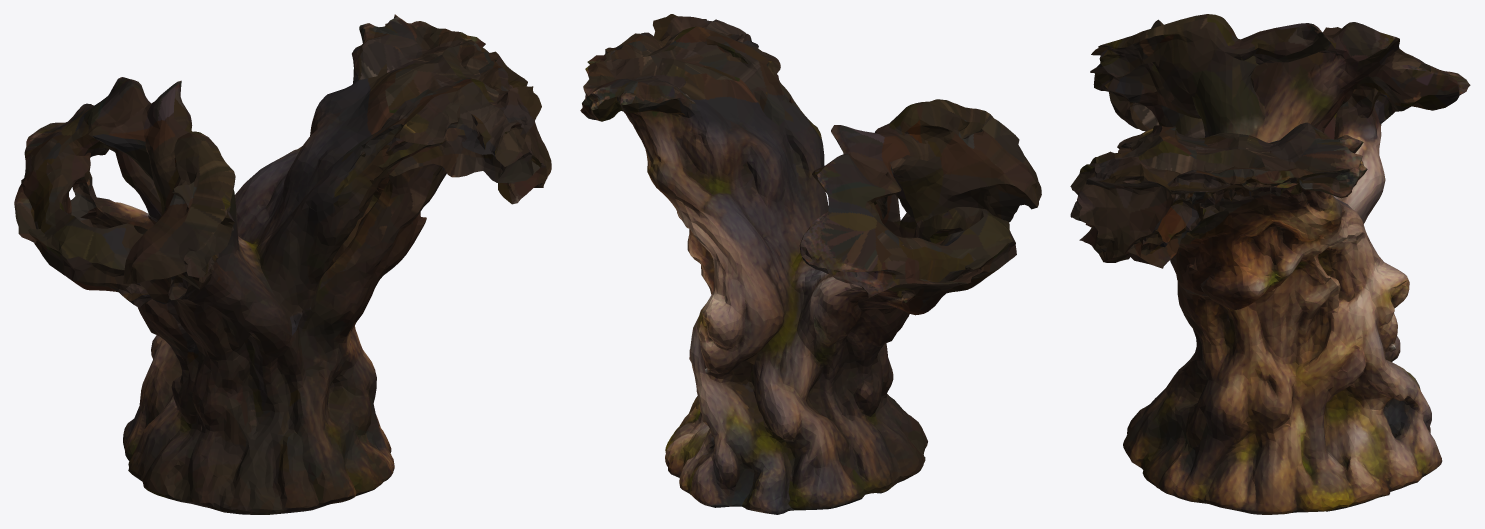
The model's file is veg_olive__v3b_fixed.glb.
3 renders of one model, left to right at view 1: azimuth 30°, elevation 25°; view 2: azimuth 150°, elevation 25°; view 3: azimuth 270°, elevation 25°, orthographic. The views are drawn at different scales.
Parts seen in each view (by area): view 1: world; view 2: world; view 3: world.
Part boxes in pixels (x1,y1,x2,y2): world: (14, 14, 551, 514); world: (580, 14, 1041, 514); world: (1070, 14, 1470, 514).
Bounding box in the file's own units: 1 × 0.8539 × 0.7637.
1 material, 1 textured.
